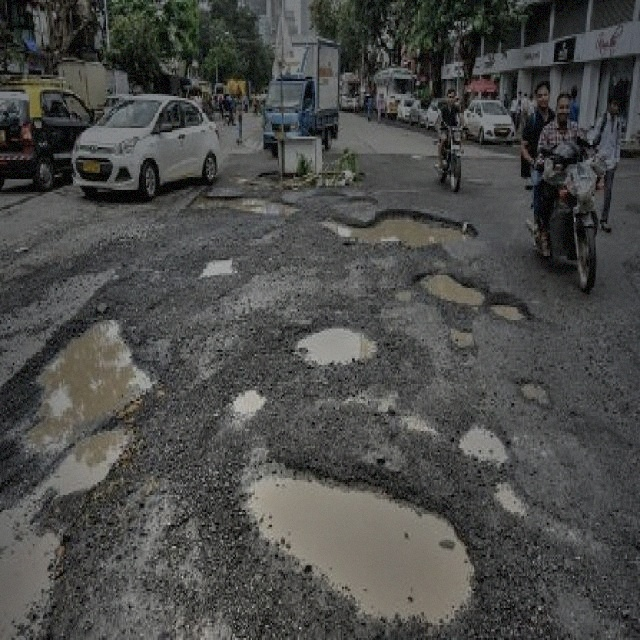pothole: (239, 454, 477, 625), (2, 309, 154, 495), (0, 503, 64, 637), (316, 202, 477, 250), (294, 318, 376, 369), (414, 265, 485, 307), (190, 190, 300, 217), (460, 418, 510, 465), (491, 478, 530, 516), (517, 373, 553, 410), (488, 290, 527, 324), (196, 252, 235, 279), (228, 386, 266, 412), (446, 324, 476, 346)
